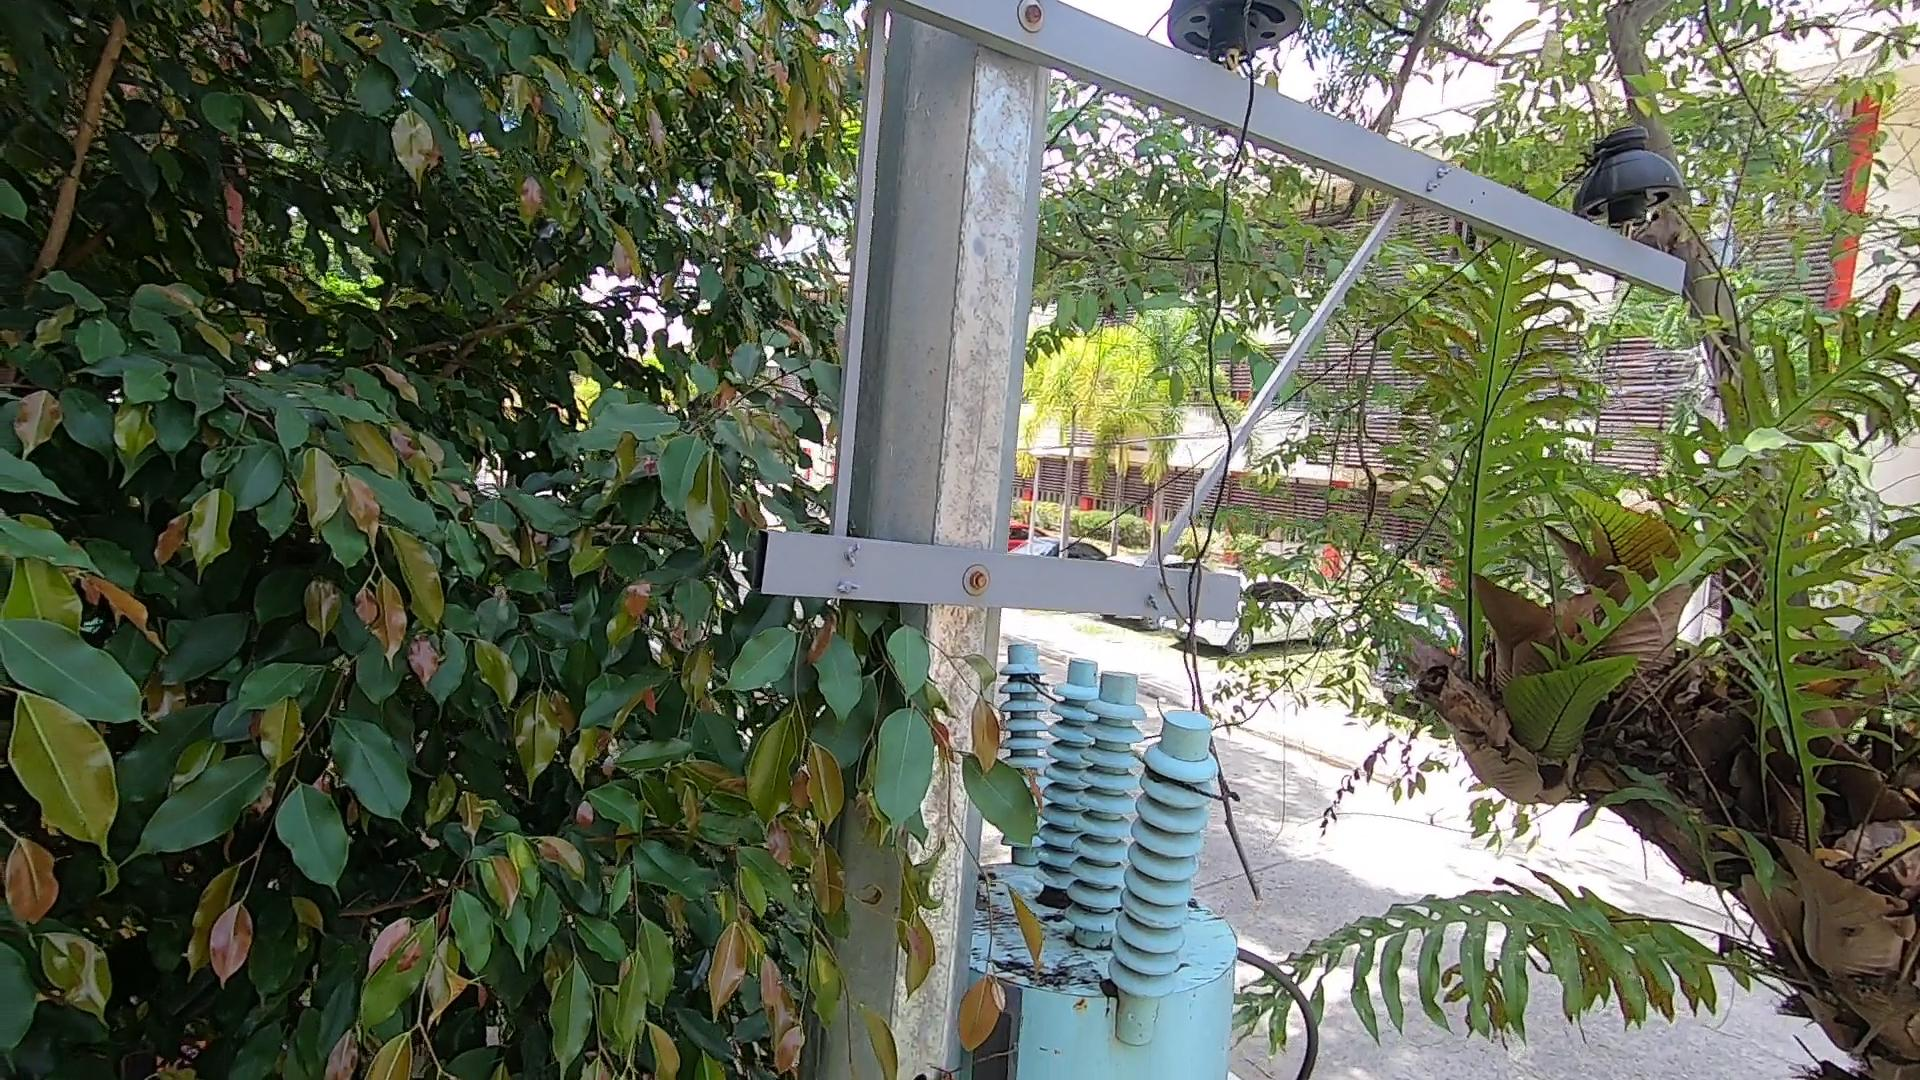tree branch: (1122, 407, 1292, 913)
